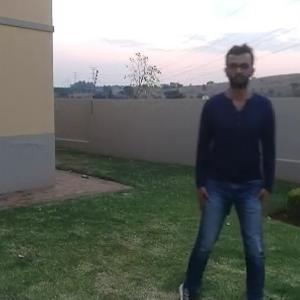follow: (187, 40, 263, 299)
